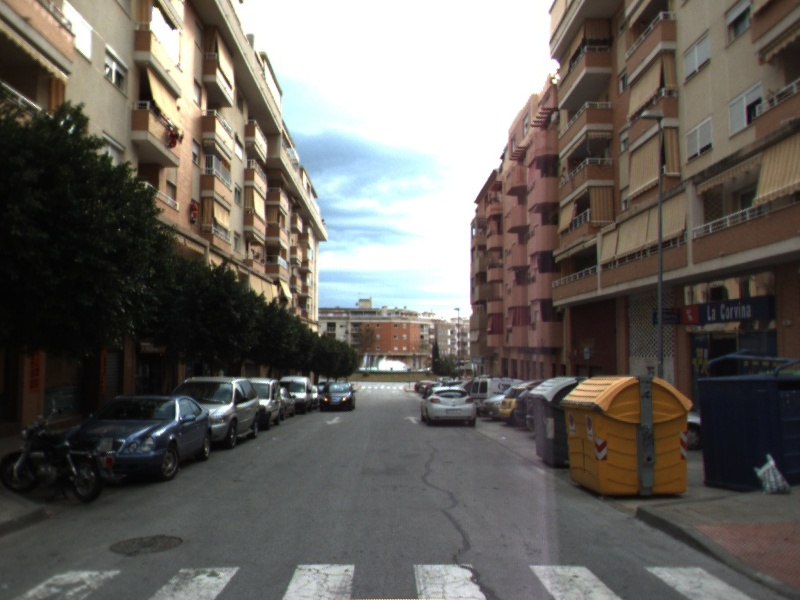STRAIGHT: (402, 413, 421, 426)
